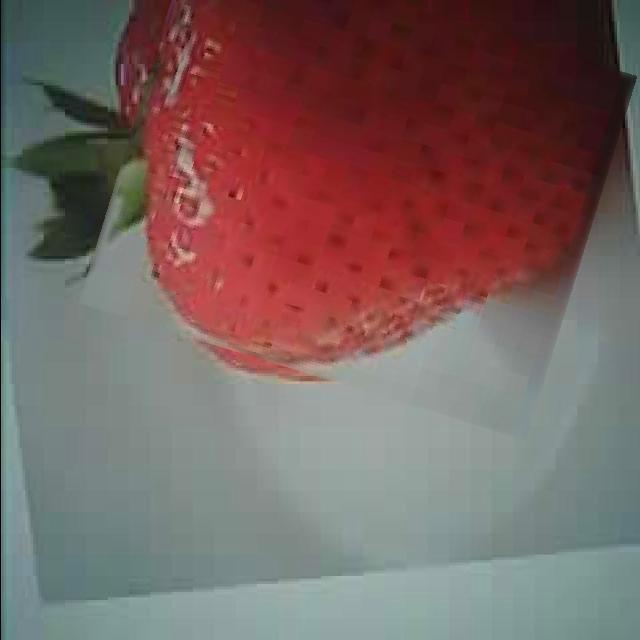strawberry: (100, 0, 613, 411)
